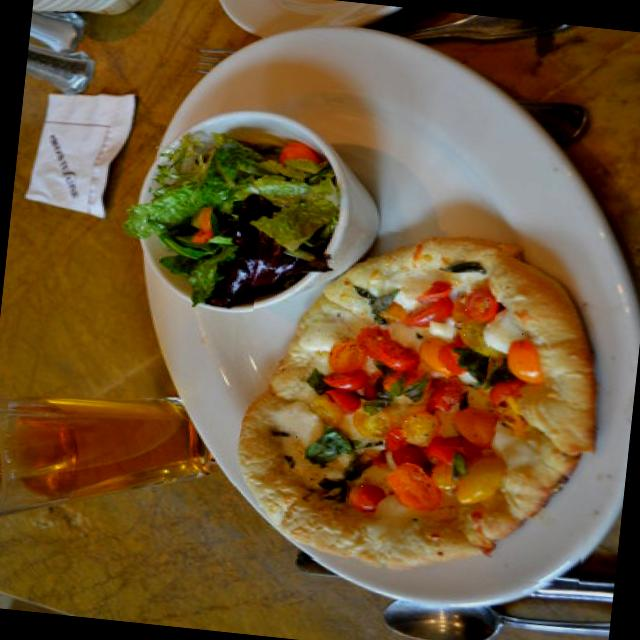basil: (298, 421, 365, 481), (444, 340, 488, 388), (380, 374, 424, 405)
pizza: (240, 237, 593, 568)
tomato: (314, 327, 422, 402), (322, 390, 434, 454), (372, 466, 453, 522), (440, 449, 508, 512), (398, 283, 456, 346), (441, 400, 497, 450), (496, 342, 552, 390), (344, 478, 384, 520), (462, 290, 496, 327)
